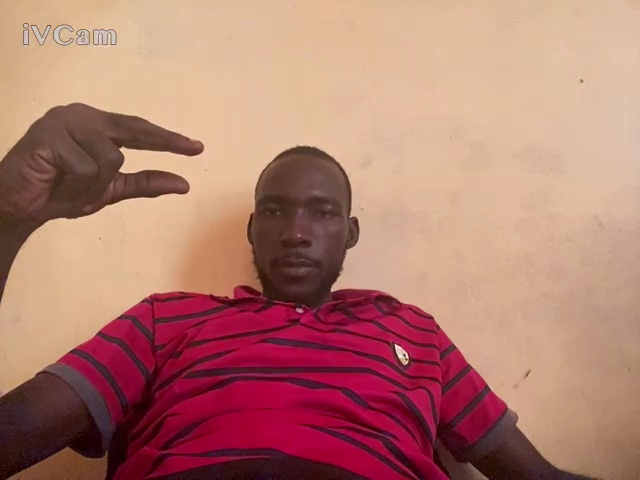Non: (23, 95, 209, 225)
